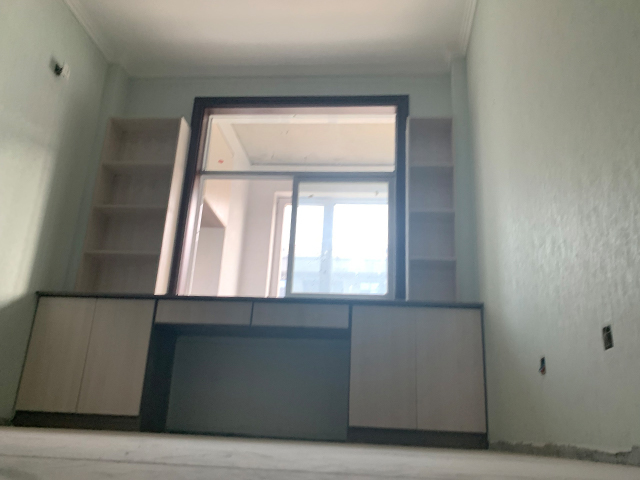table: (9, 288, 489, 451)
